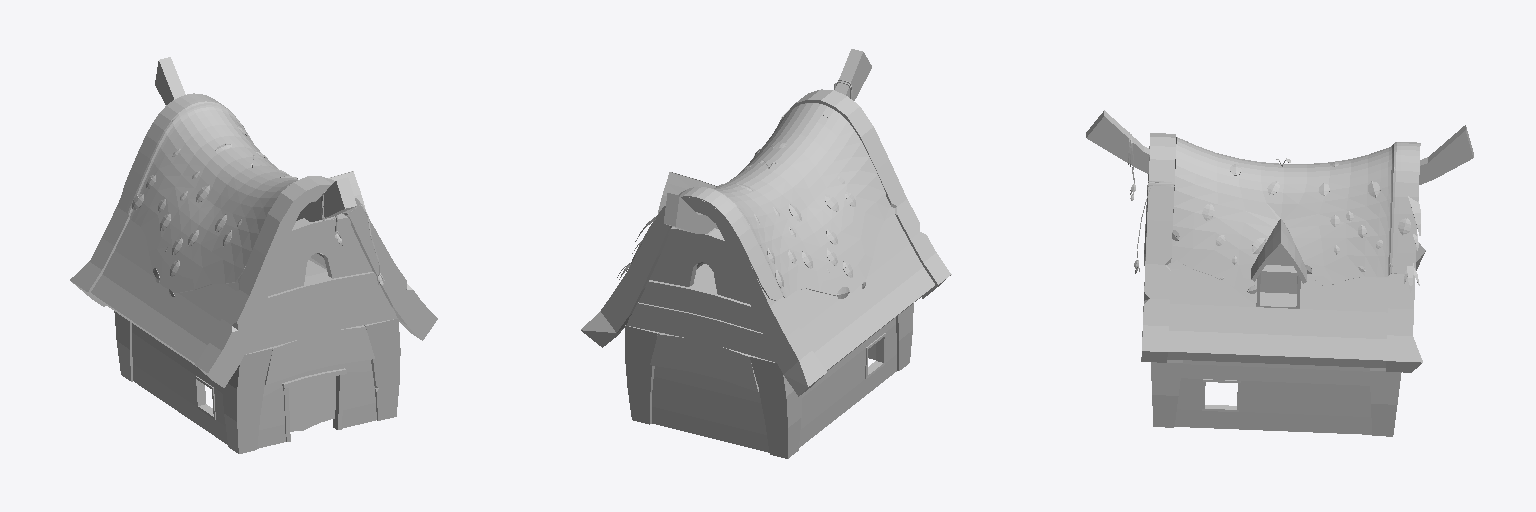
Rendered from home.obj.
The picture shows the model from 3 angles: view 1: azimuth 30°, elevation 25°; view 2: azimuth 150°, elevation 25°; view 3: azimuth 270°, elevation 25°; orthographic projection.
Parts seen in each view (by area): view 1: home; view 2: home; view 3: home.
Boxes of the visible parts, x1=… form: home: x1=70, y1=57, x2=437, y2=453; home: x1=581, y1=49, x2=951, y2=458; home: x1=1086, y1=110, x2=1473, y2=436.
Size of the model in its own units: 1.29 by 1.51 by 1.87.